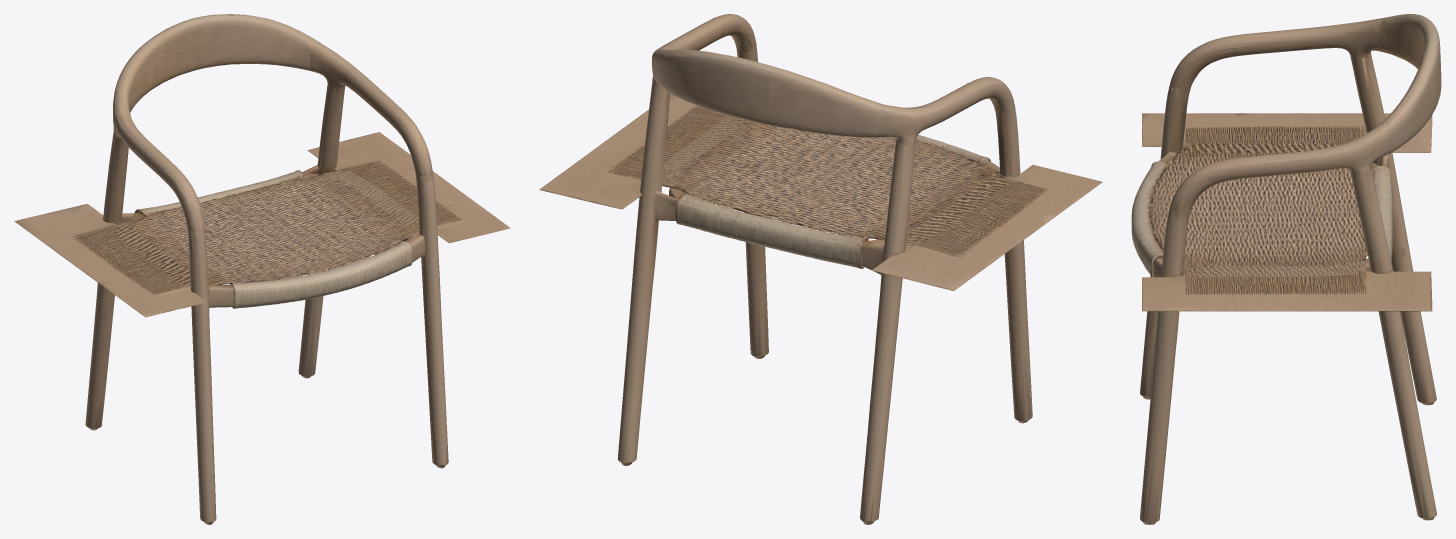
The model's file is alt_dchair_cord.glb.
3 renders of one model, left to right at view 1: azimuth 30°, elevation 25°; view 2: azimuth 150°, elevation 25°; view 3: azimuth 270°, elevation 25°, orthographic. The views are drawn at different scales.
Visible parts, largest first — view 1: node_0; view 2: node_0; view 3: node_0.
Part boxes in pixels (<box>): node_0: <box>14,14,510,524</box>; node_0: <box>539,14,1102,524</box>; node_0: <box>1131,14,1441,524</box>.
Bounding box in the file's own units: 0.8978 × 0.8991 × 0.5955.
Materials: 1 (1 with a texture image).
